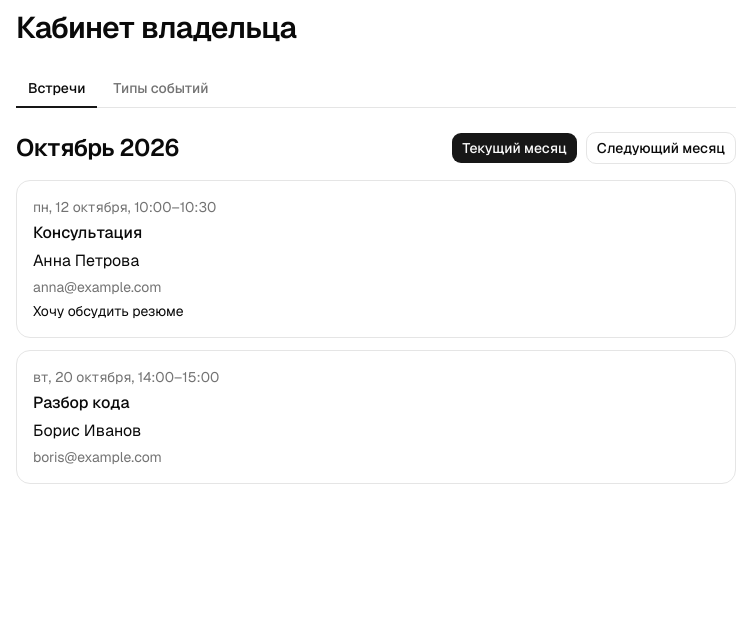
Test: вкладка «Типы событий» › показывает ошибку загрузки
Click the tab "Типы событий": (161,89) [101,70,220,108]
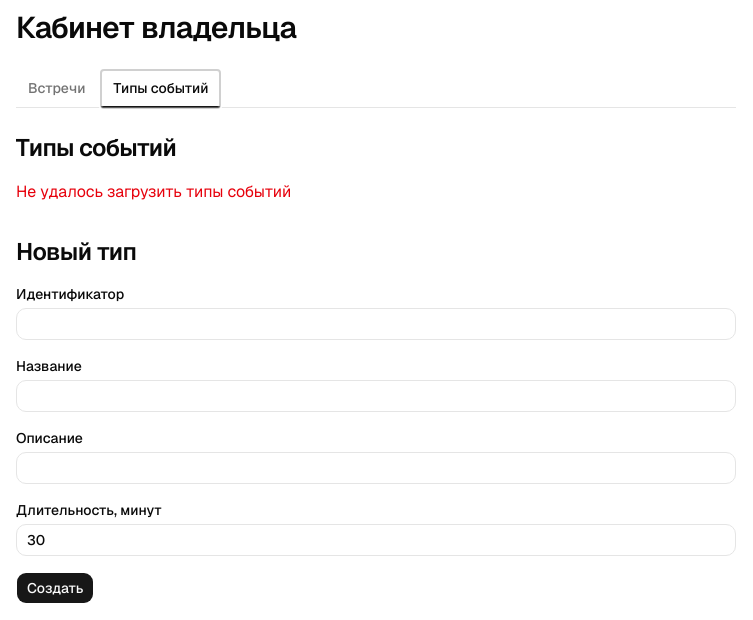
Now the text "Не удалось загрузить типы событий" is shown, box [16,181,291,202]
